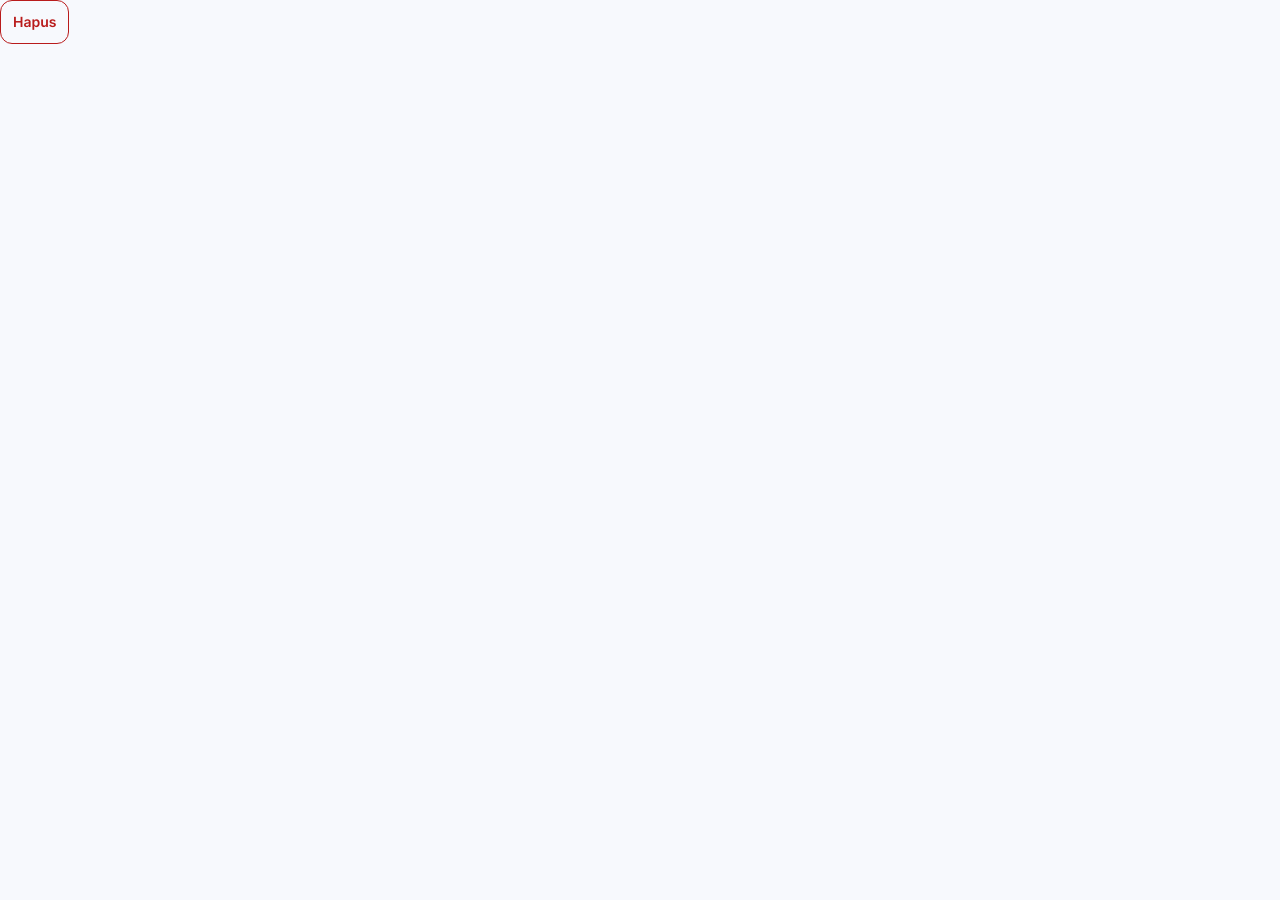
Test: ConfirmDelete › keeps the dialog open and shows the reason when the action refuses
Click the button with aria-label "Hapus Gambar".
click(35, 22)  # box [0, 0, 70, 44]
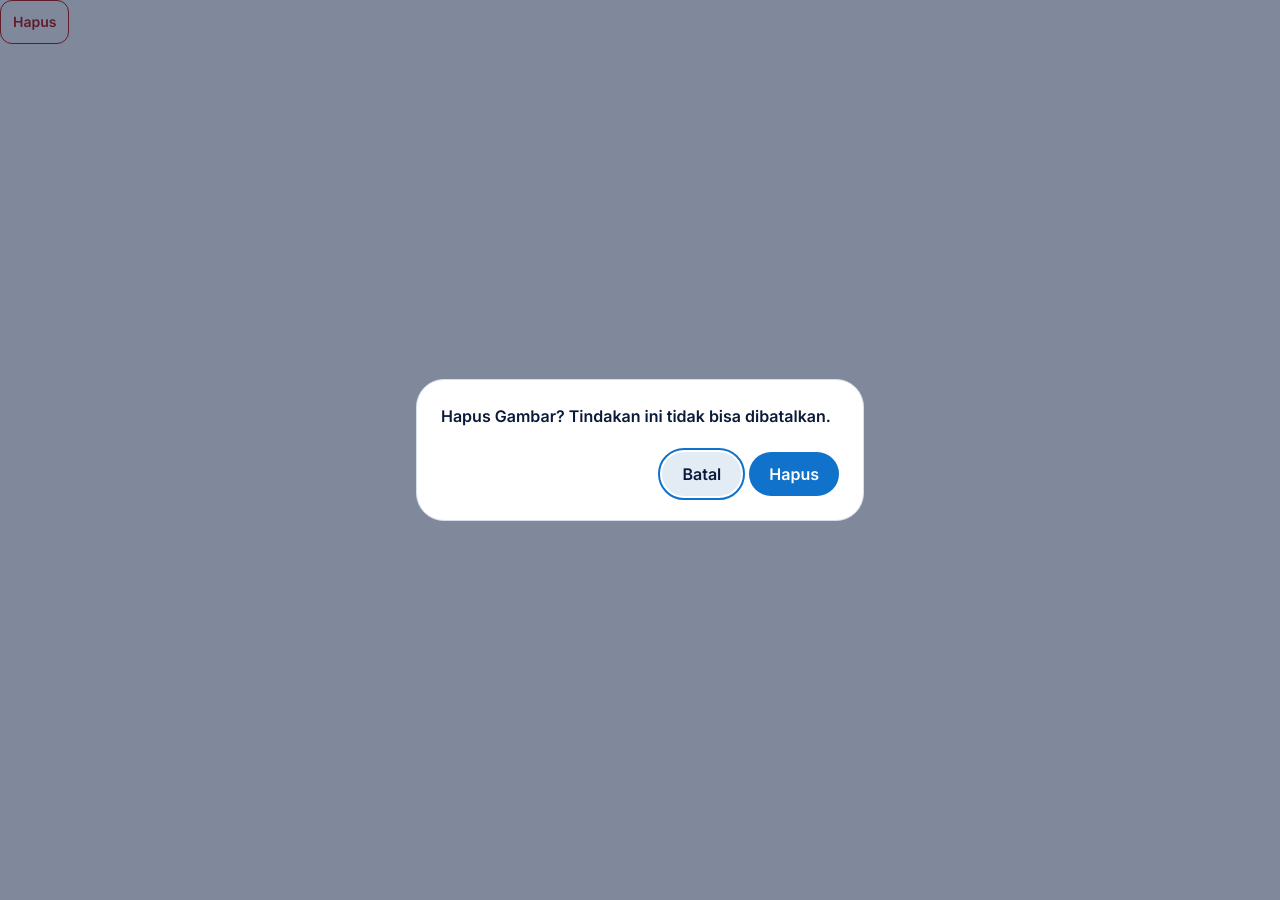
Click the 2nd button "Hapus".
click(794, 474)  # box [749, 452, 839, 496]
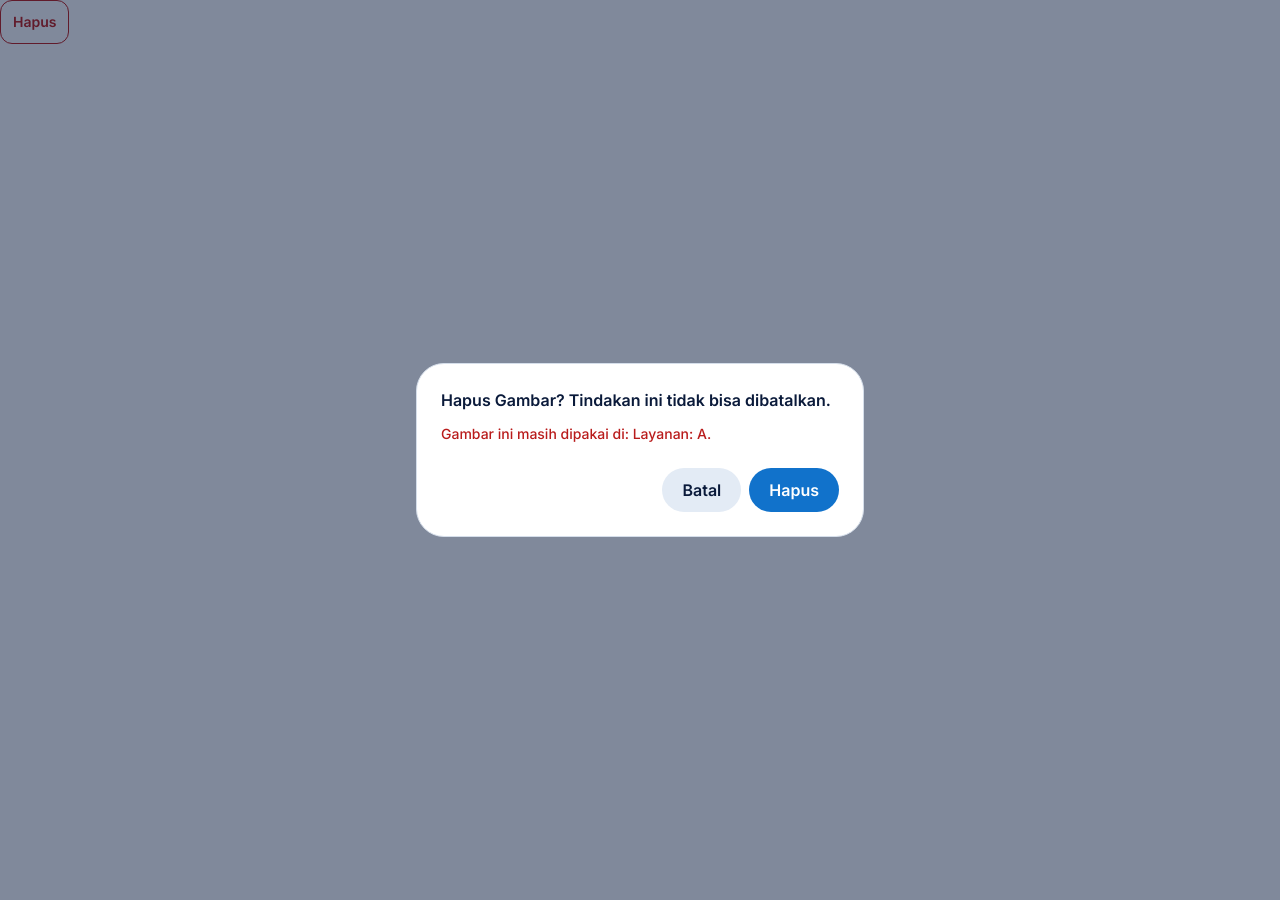
expect the dialog is shown: met
expect the text "Gambar ini masih dipakai di: Layanan: A." is shown: met, box [441, 425, 711, 442]
